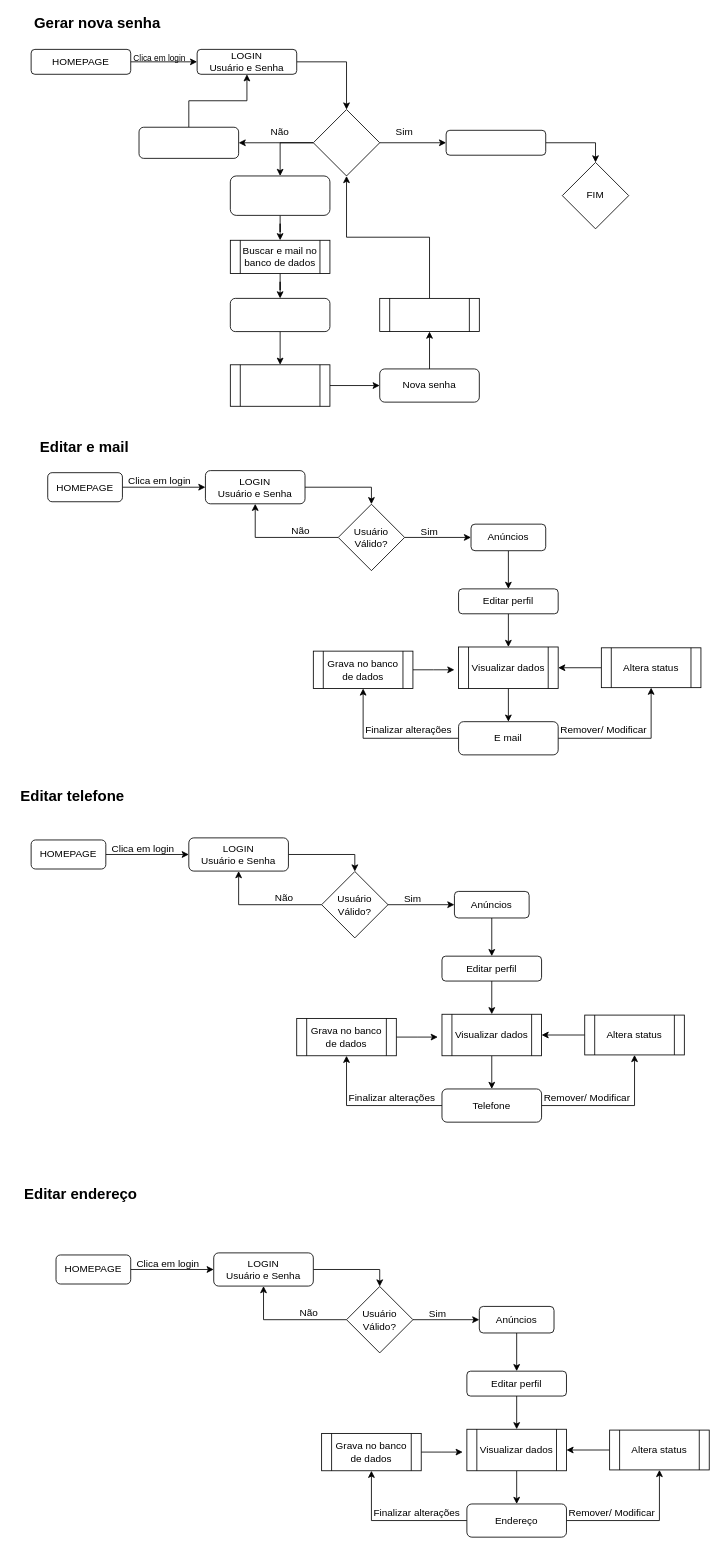
Image size: 724x1551. Some labels were removed from this diagram. The shapes that lost their labels are listed below. From the top down, each one's centre as x and y in pixels, then its label:
the point at 188,142: Nova tentativa
the point at 346,142: Senha Válida?
the point at 495,142: Prossiga o login
the point at 279,195: Solicitar alteração de senha
the point at 279,315: Confirmação do usuário
the point at 429,315: Novo login
the point at 279,385: Encaminhar e mail para alteração
